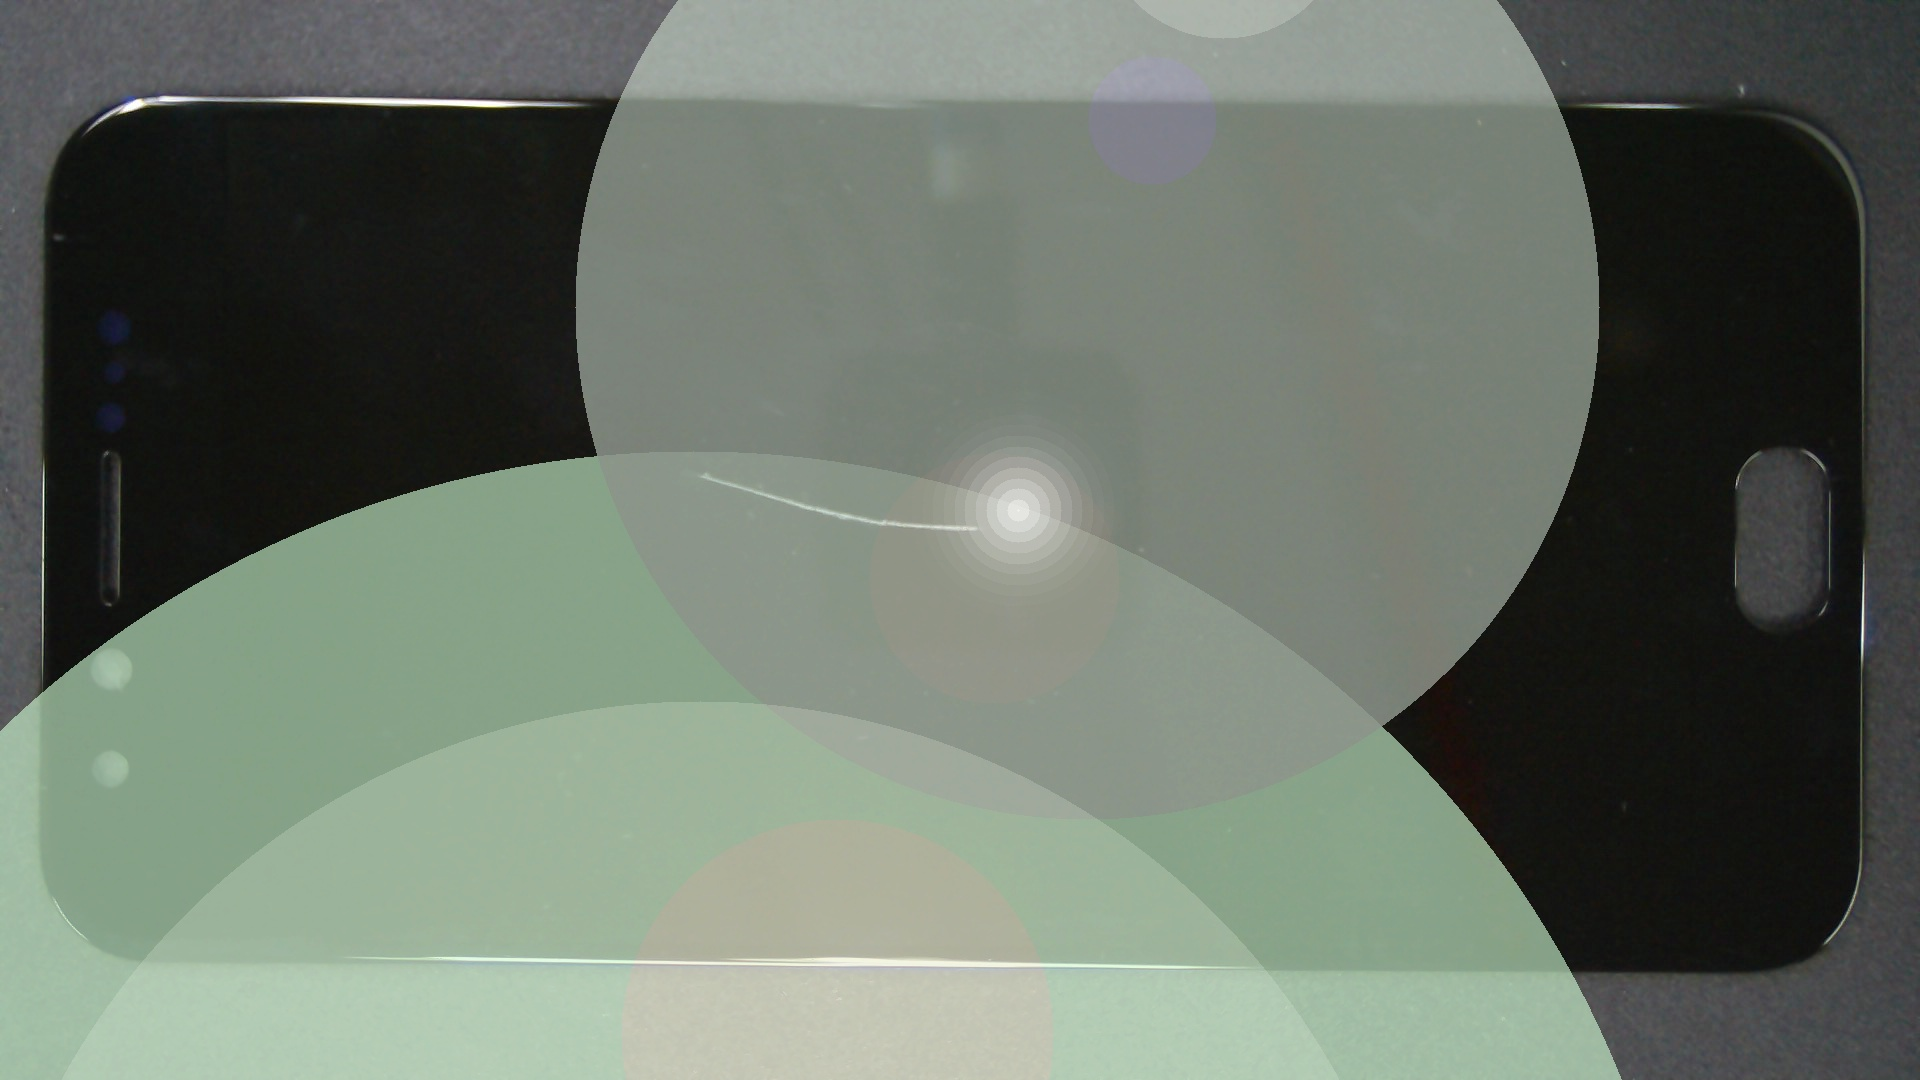oil: (352, 236, 1052, 709)
